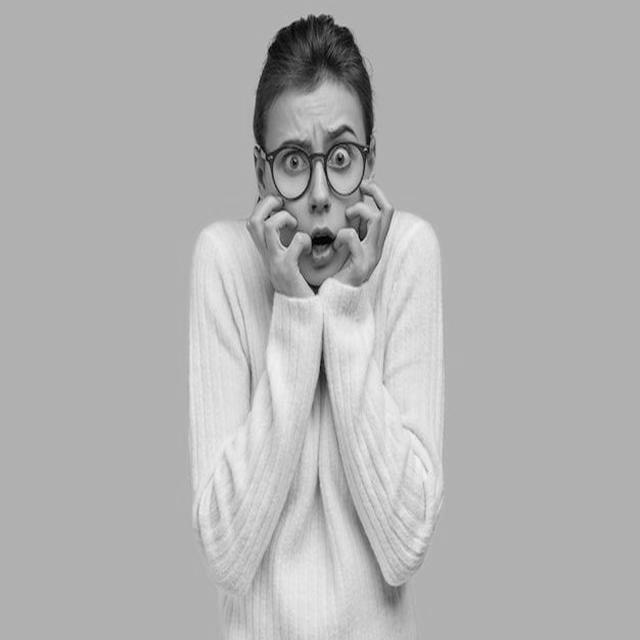Fear: (265, 81, 369, 286)
